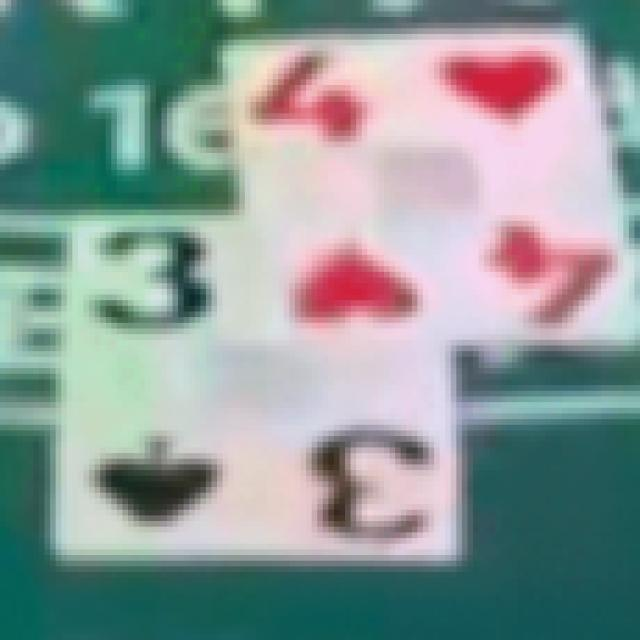Card-3: (60, 224, 461, 562)
Card-4: (230, 24, 637, 348)
